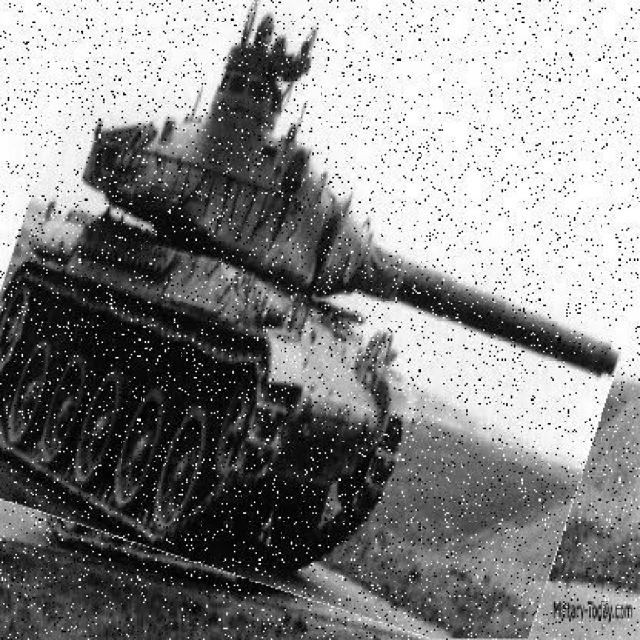Tank: (1, 1, 639, 627)
